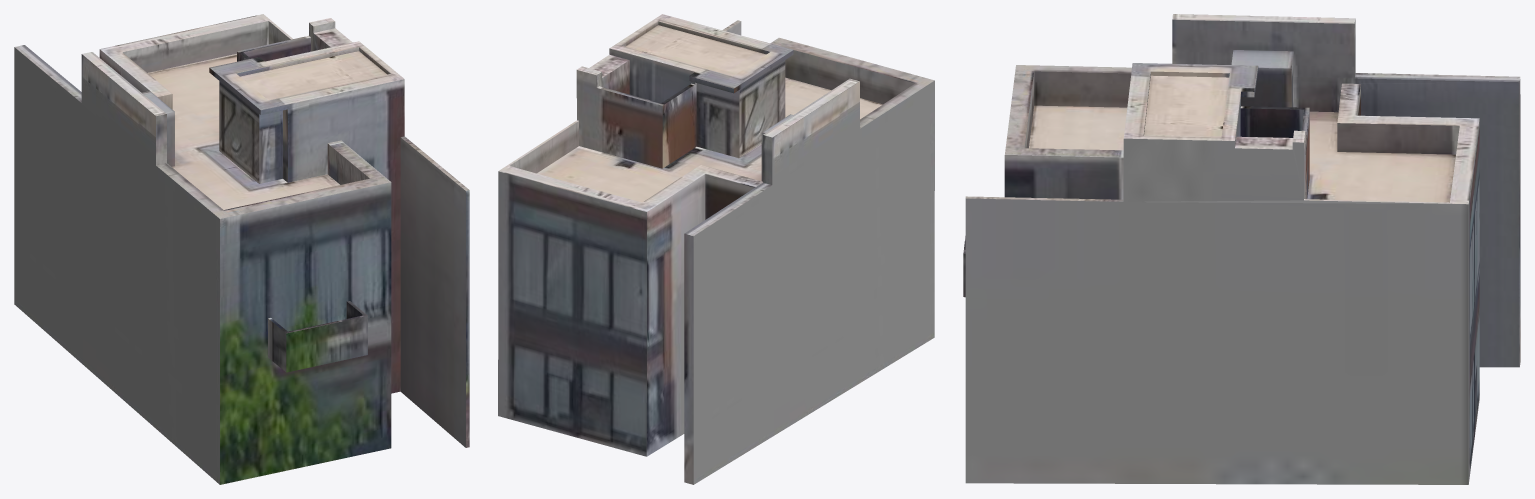
The picture shows the model from 3 angles, left to right: view 1: azimuth 30°, elevation 25°; view 2: azimuth 150°, elevation 25°; view 3: azimuth 270°, elevation 25°; orthographic projection. The views are drawn at different scales.
Visible parts, largest first — view 1: B285754029801062A0; view 2: B285754029801062A0; view 3: B285754029801062A0.
Part boxes in pixels (x1,y1,x2,y2): B285754029801062A0: [14, 14, 469, 484]; B285754029801062A0: [498, 14, 934, 484]; B285754029801062A0: [963, 14, 1520, 484].
Size of the model in its own units: 9.26 by 11.3 by 16.29.
Materials: 1 (1 with a texture image).
